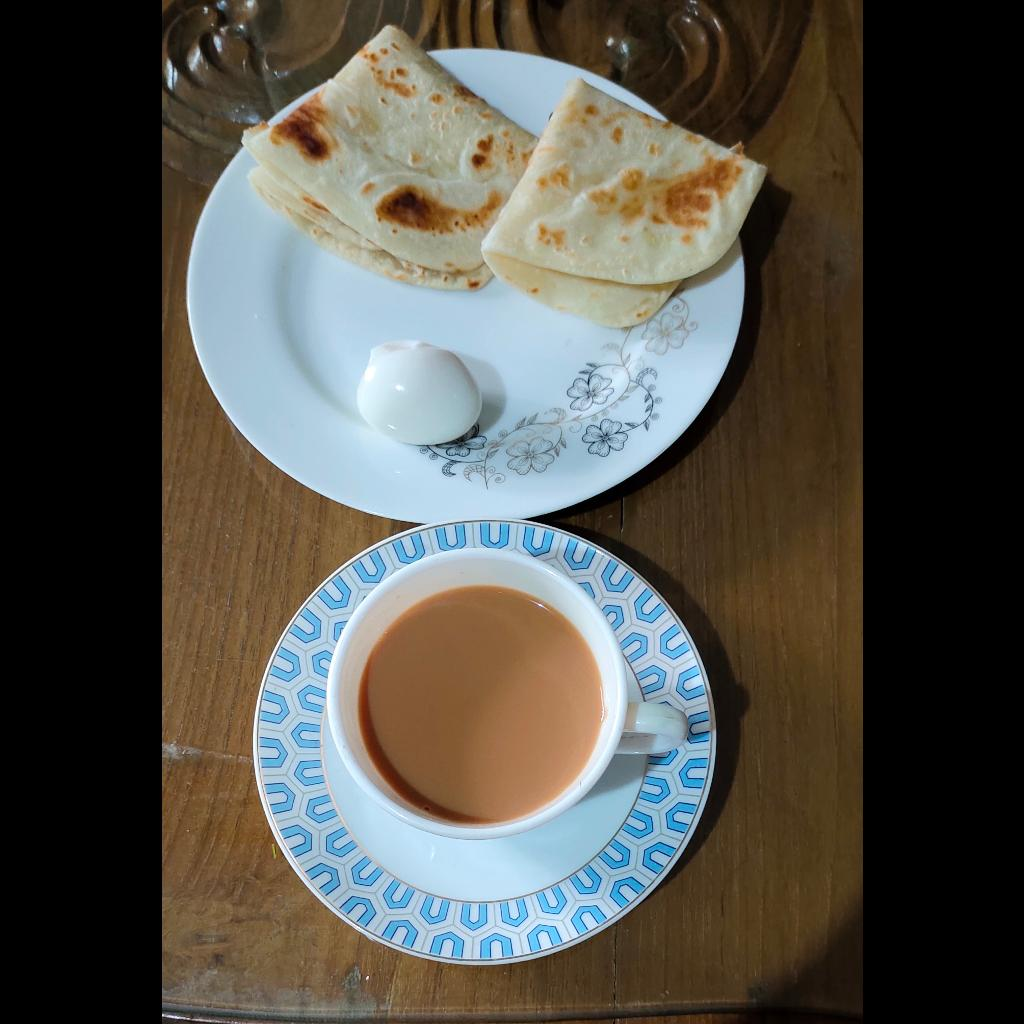cha: (358, 586, 603, 823)
egg-boiled: (355, 336, 482, 444)
ruti: (238, 24, 763, 328)
